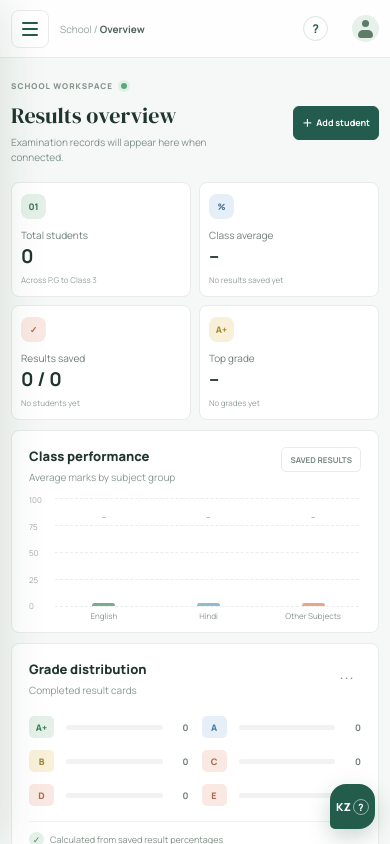
it: opens mobile navigation from the hamburger control
Click the button named "open navigation". click: coordinates (30, 28)
box: [11,10,49,48]
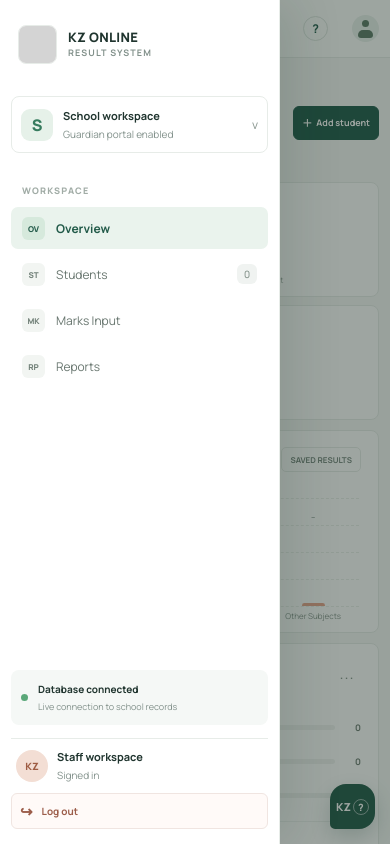
Now the button named "close navigation" is shown
